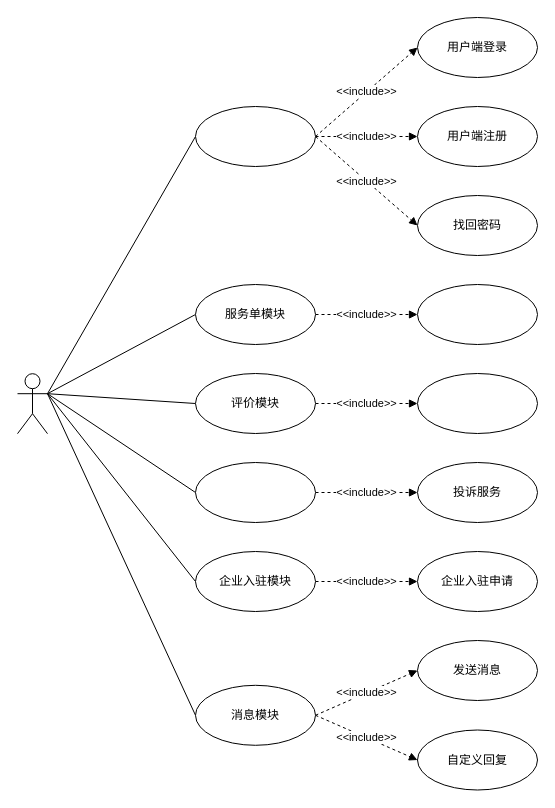
The diagram is 555 pixels wide and 808 high, and some of its shapes have lost their labels. Each missing label, with the centre of its shape:
"投诉模块" goes at point 255,492.
"提交服务单" goes at point 477,314.
"服务评价" goes at point 477,403.
"用户" goes at point 32,403.
"账号模块" goes at point 255,136.
